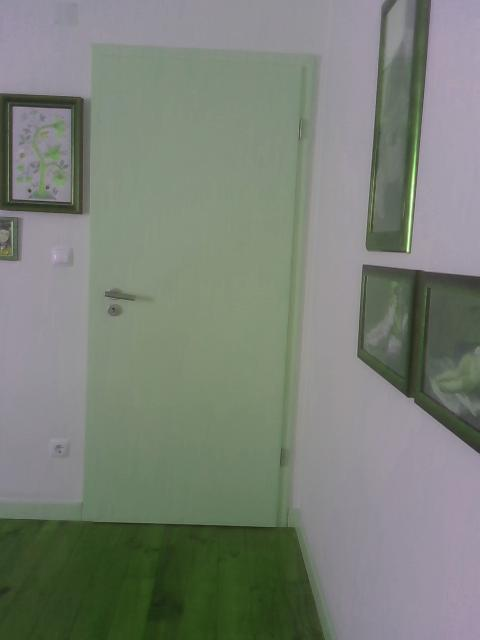closed_door: (82, 40, 318, 523)
